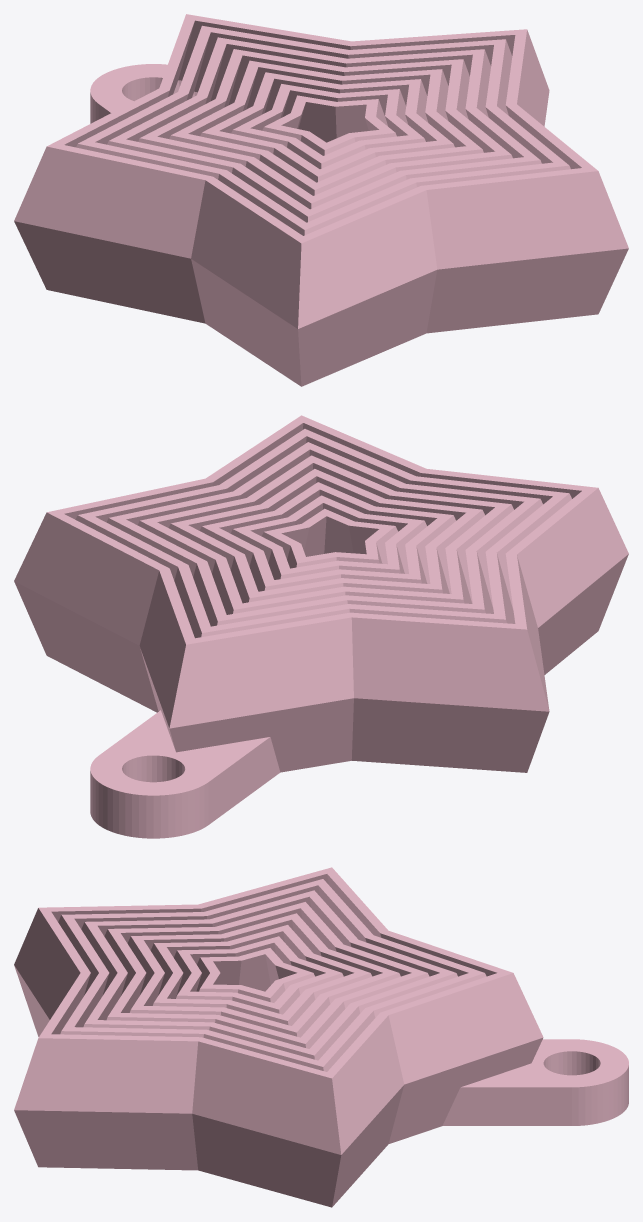
Rendered from llavero-estrella-fidget.glb.
The picture shows the model from 3 angles, top to bottom: view 1: azimuth 30°, elevation 25°; view 2: azimuth 150°, elevation 25°; view 3: azimuth 270°, elevation 25°; orthographic projection. The views are drawn at different scales.
Parts seen in each view (by area): view 1: pieza; view 2: pieza; view 3: pieza.
Part boxes in pixels (x1,y1,x2,y2): pieza: (14, 14, 628, 386); pieza: (14, 415, 628, 838); pieza: (14, 867, 628, 1207).
Size of the model in its own units: 0.0391 by 0.01 by 0.0432.
